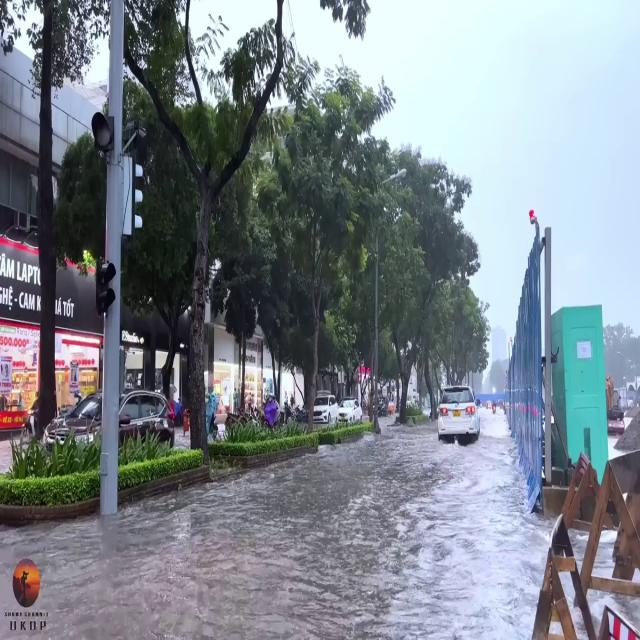bien_vang: (453, 409, 461, 417)
